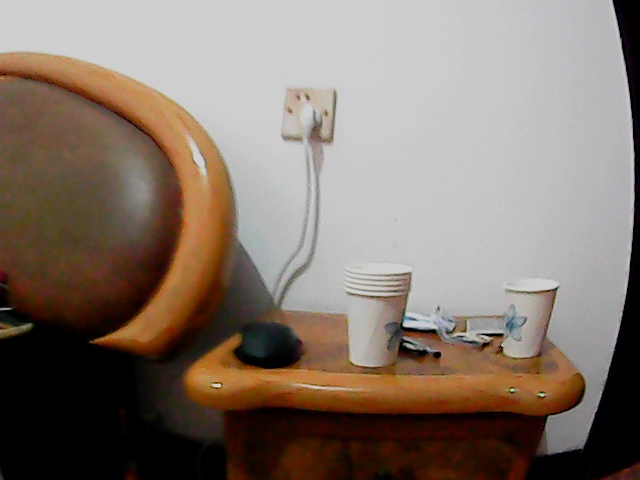cup: (342, 261, 413, 368)
mouse: (232, 317, 305, 368)
